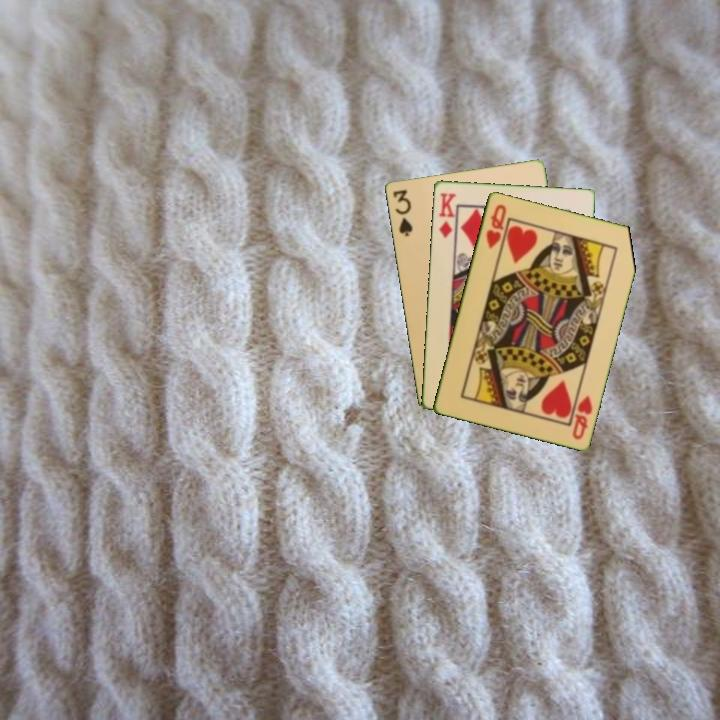3s: (389, 186, 415, 239)
Kd: (435, 189, 458, 241)
Qh: (482, 200, 509, 251), (569, 392, 595, 442)
